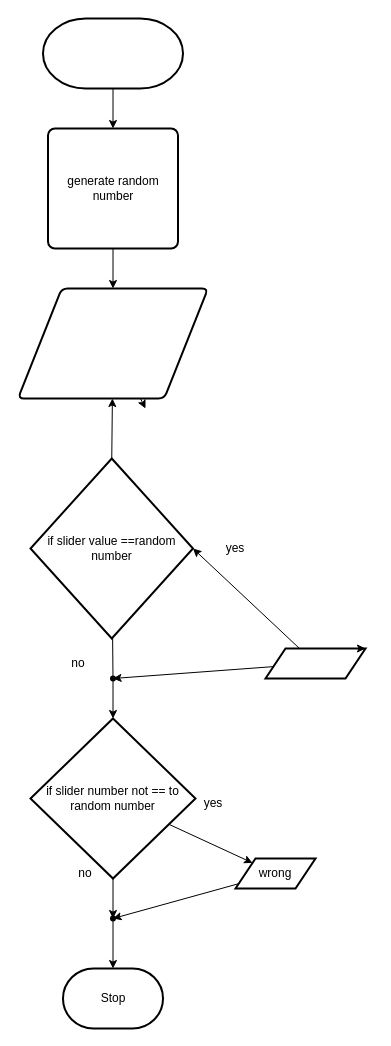
The diagram is 391 pixels wide and 1046 high, and some of its shapes have lost their labels. Each missing label, with the centre of its shape:
"correct" goes at (315,663).
"get slider value" goes at (112,343).
"Start" goes at (113,53).
